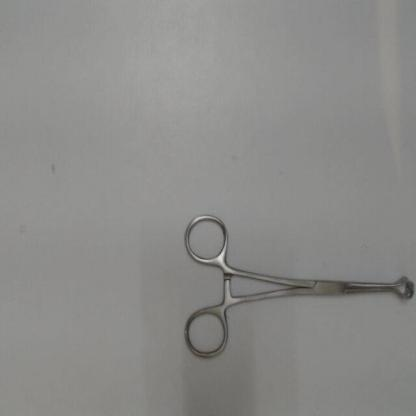Babcock Tissue Forceps: (178, 209, 416, 365)
